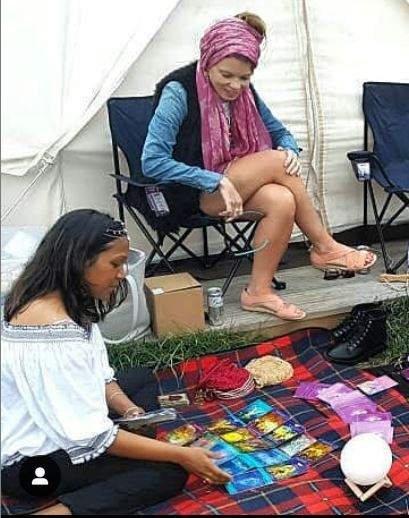Caution: (1, 11, 376, 515)
